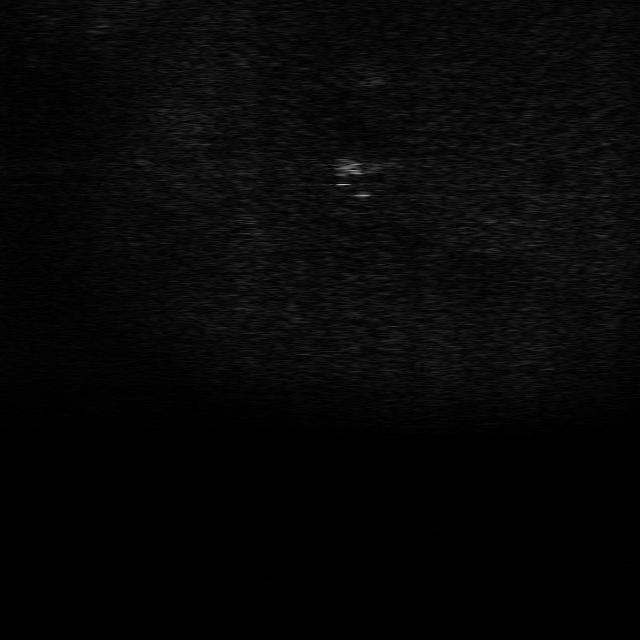plane: (322, 156, 387, 179)
